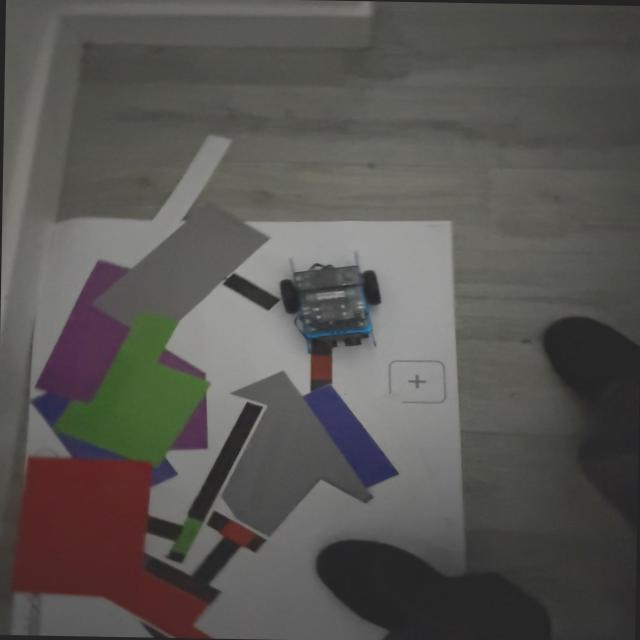mbot-detection: (272, 243, 388, 358)
